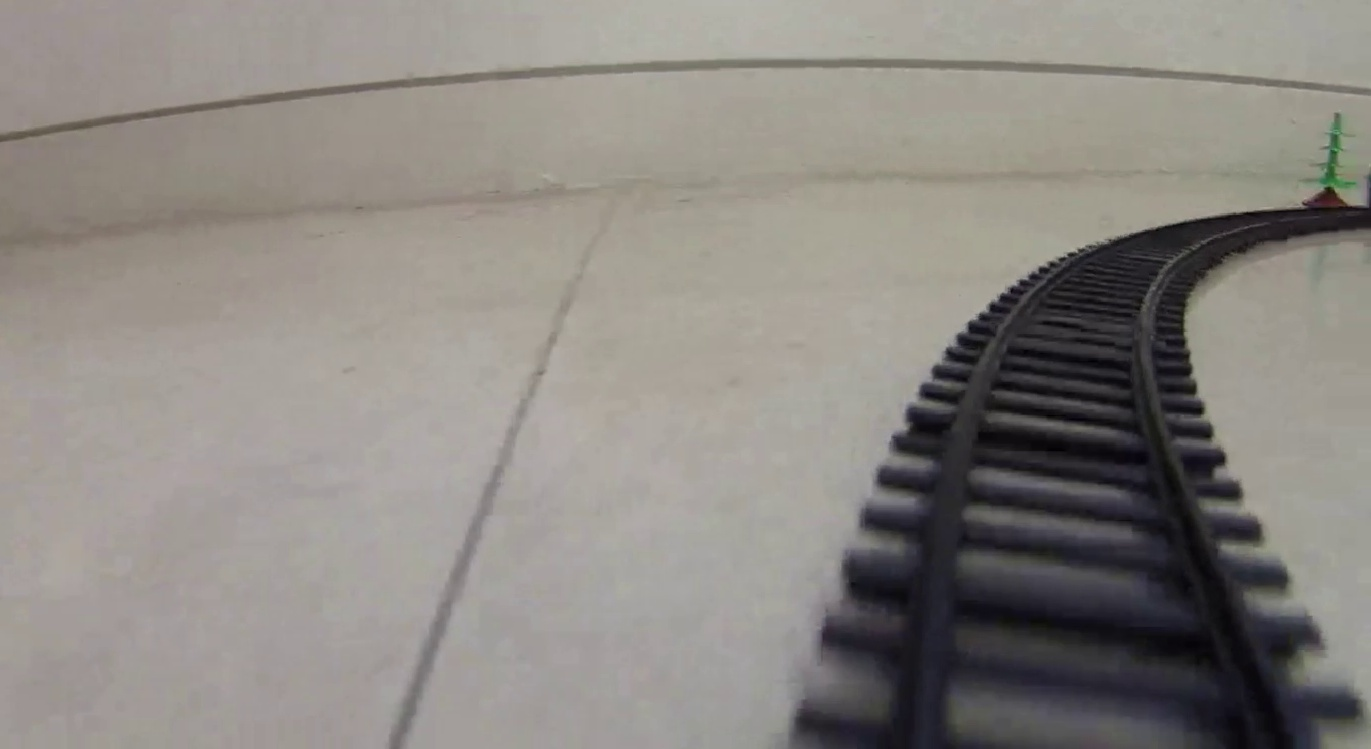tree: (1308, 106, 1358, 206)
